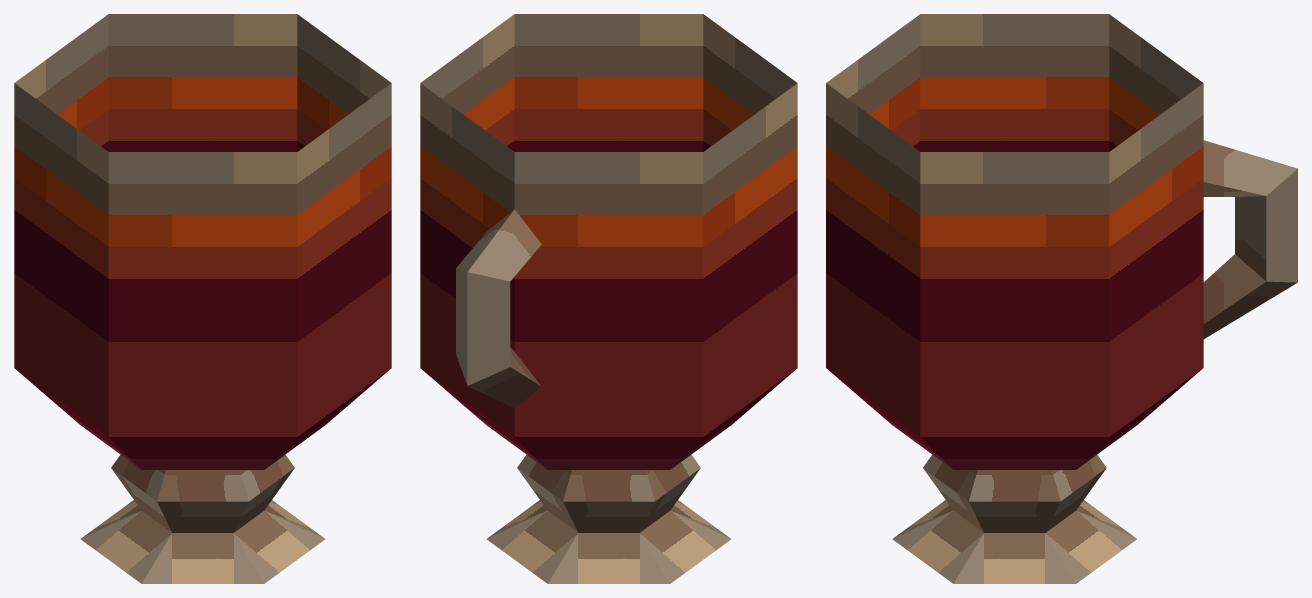
The model's file is cup.fbx.
3 views of the same model, side by side, from view 1: azimuth 30°, elevation 25°; view 2: azimuth 150°, elevation 25°; view 3: azimuth 270°, elevation 25° (orthographic).
Visible parts, largest first — view 1: Cup; view 2: Cup; view 3: Cup.
Part boxes in pixels (box(x1,y1,x2,y2)): Cup: box(14, 14, 391, 583); Cup: box(420, 14, 797, 583); Cup: box(826, 14, 1297, 583).
Size of the model in its own units: 40.09 by 61.73 by 57.87.
Materials: 1 (1 with a texture image).
